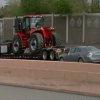Tractor: (7, 8, 53, 68)
